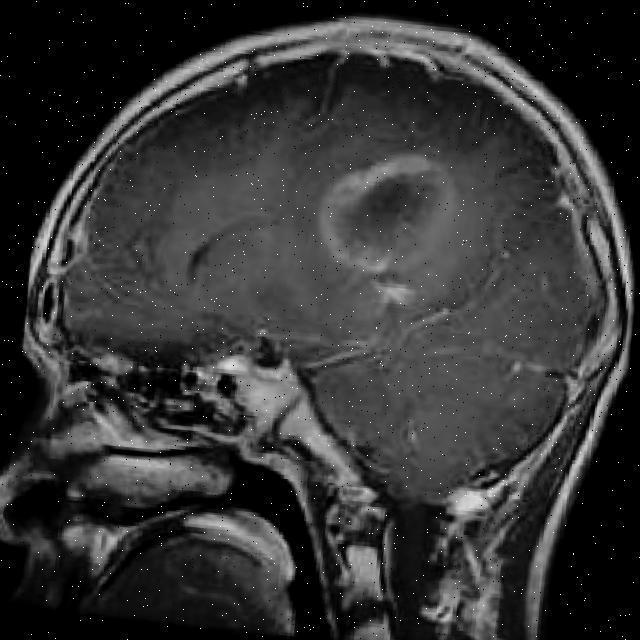MCI: (303, 170, 502, 306)
